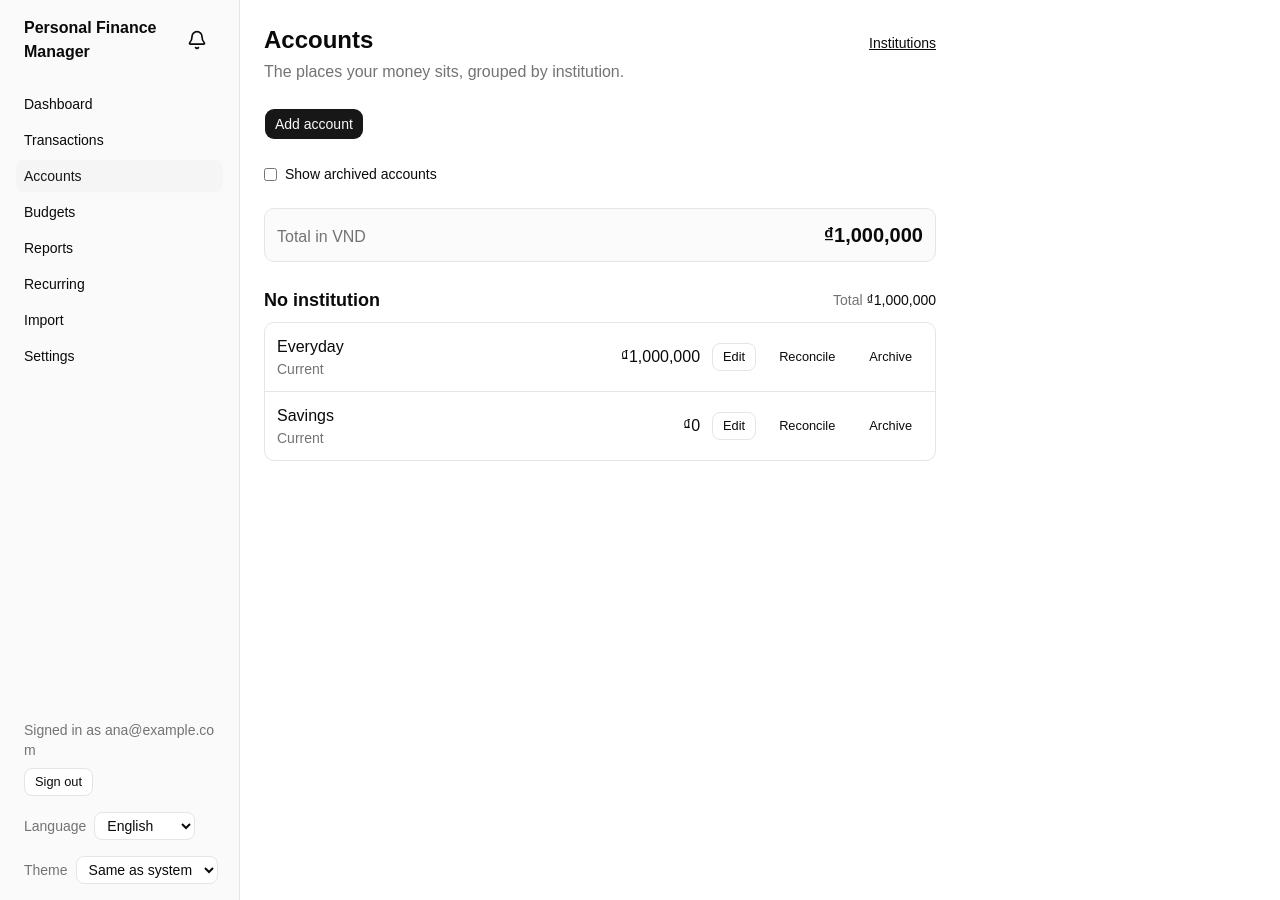
Test case: reconciling an account › is opened from the account, and started with the statement date and closing balance
Step 1. Click the link with aria-label "Reconcile Everyday" → click(807, 357), box x1=779 y1=349 x2=835 y2=364
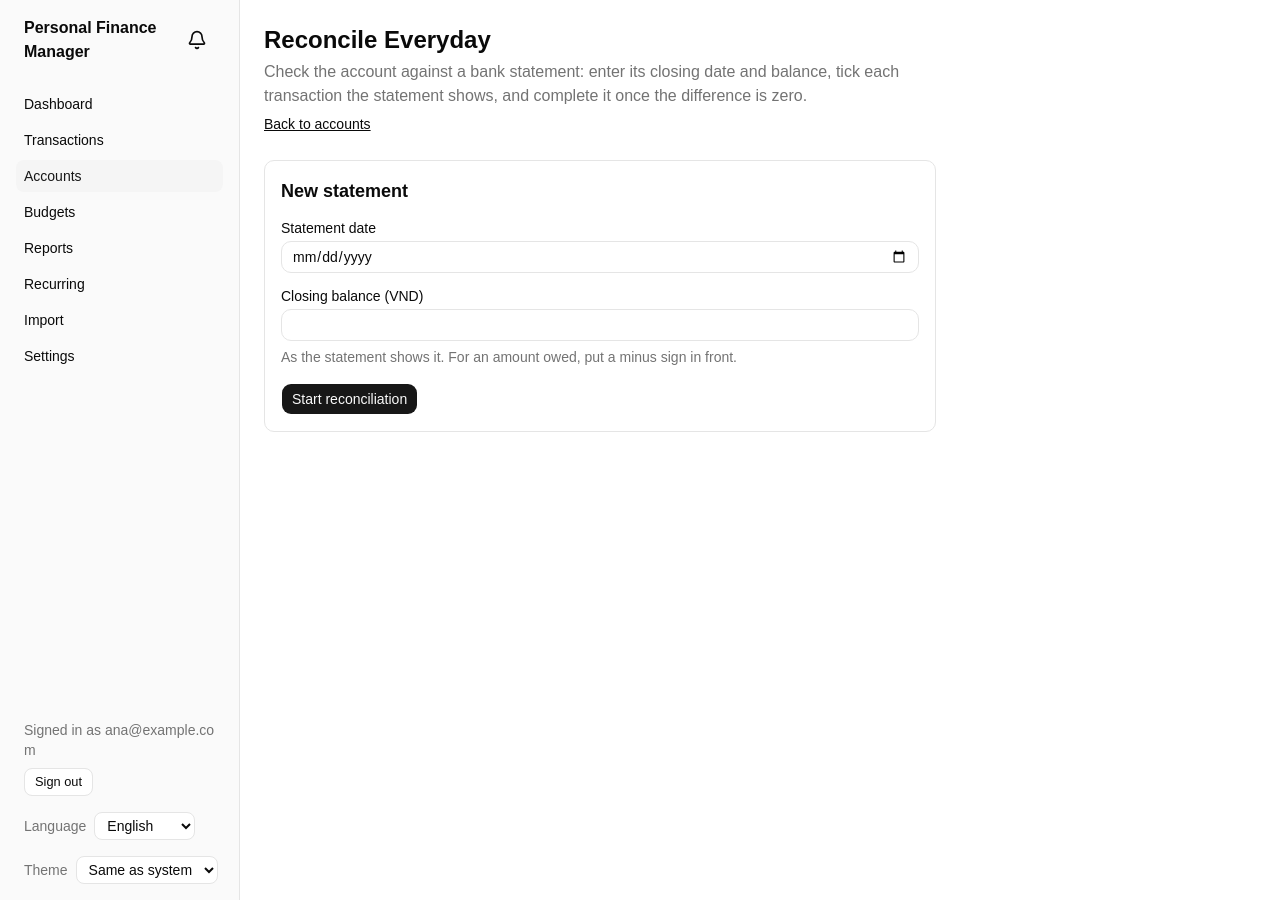
Check: the heading "Reconcile Everyday" is shown, box x1=264 y1=26 x2=491 y2=53
Step 2. Type "2026-10-31" into the date field labelled "Statement date" → (600, 257), box x1=281 y1=241 x2=919 y2=273
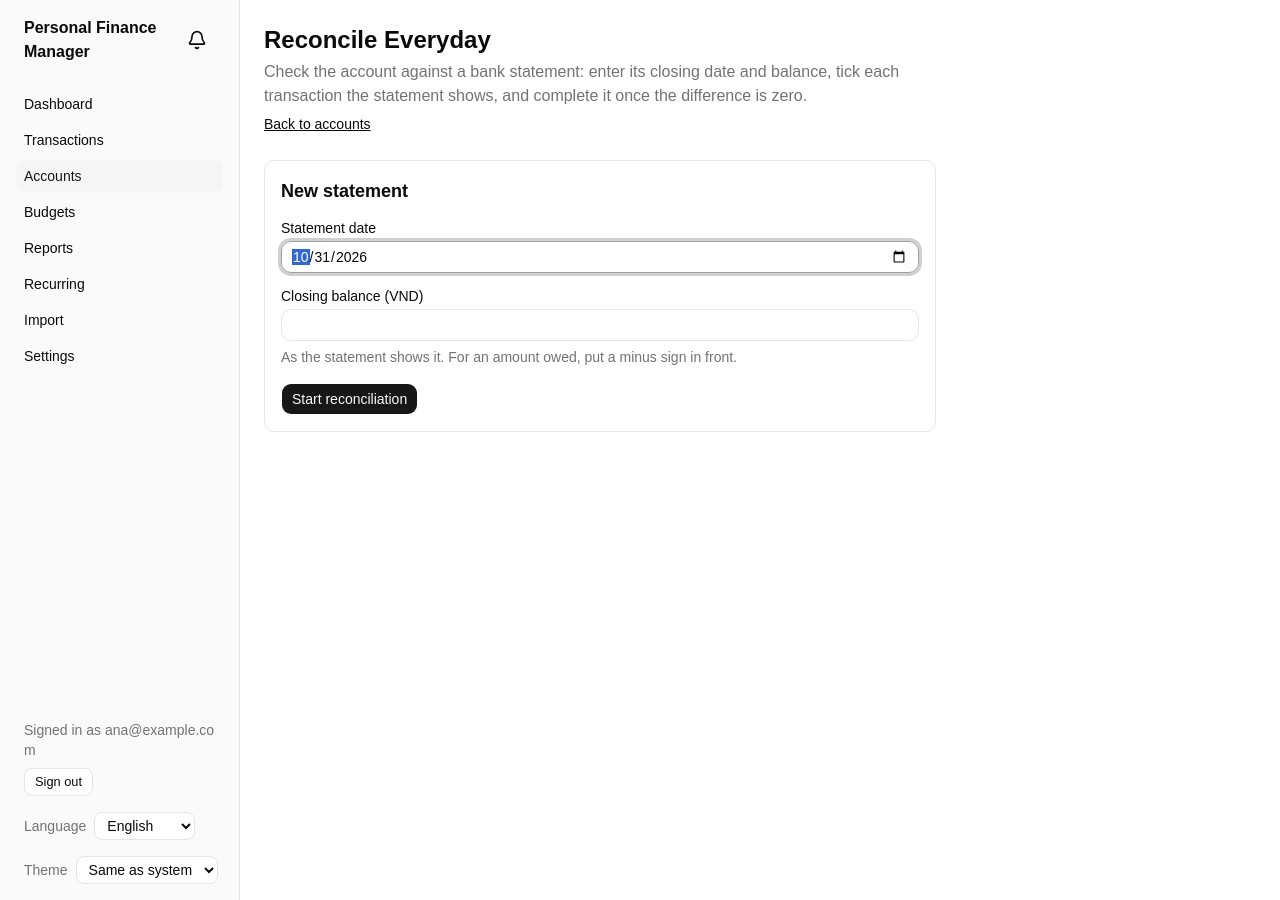
Step 3. Type "5,500,000" into the field labelled "Closing balance (VND)" → (600, 325), box x1=281 y1=309 x2=919 y2=341
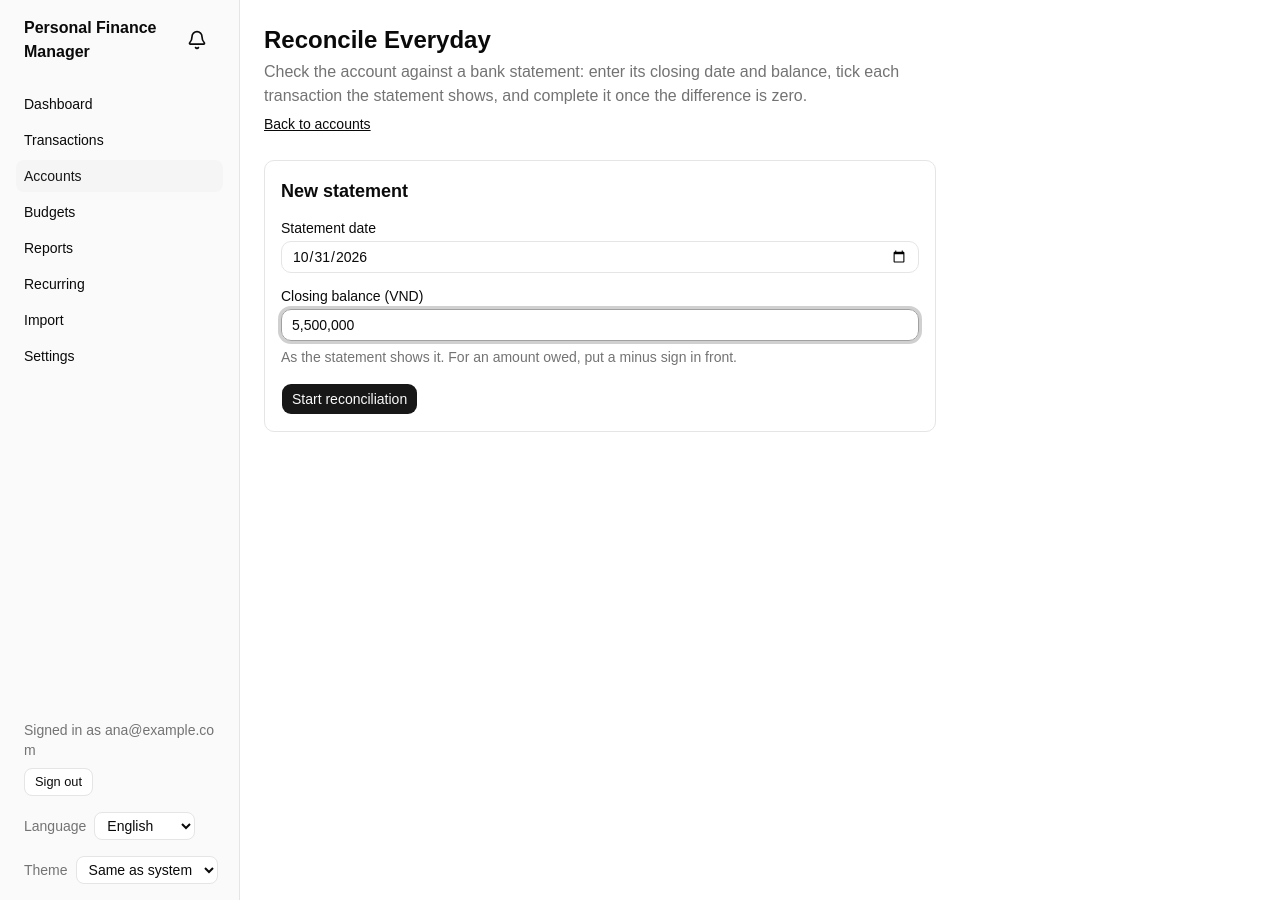
Step 4. Click the button "Start reconciliation" → click(350, 399), box x1=281 y1=383 x2=418 y2=415
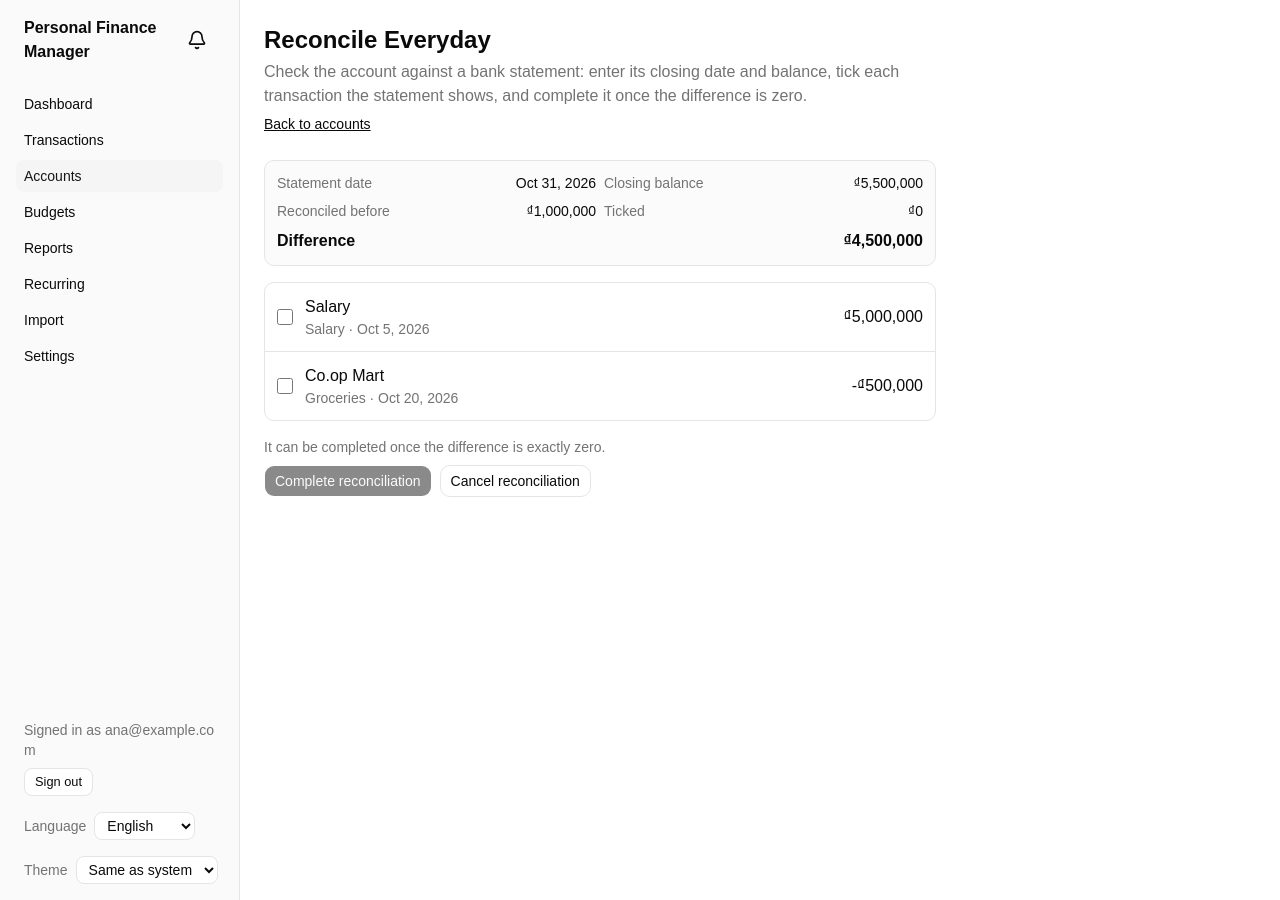
Check: the element with test id "difference" shows "4,500,000", box x1=844 y1=232 x2=923 y2=249
